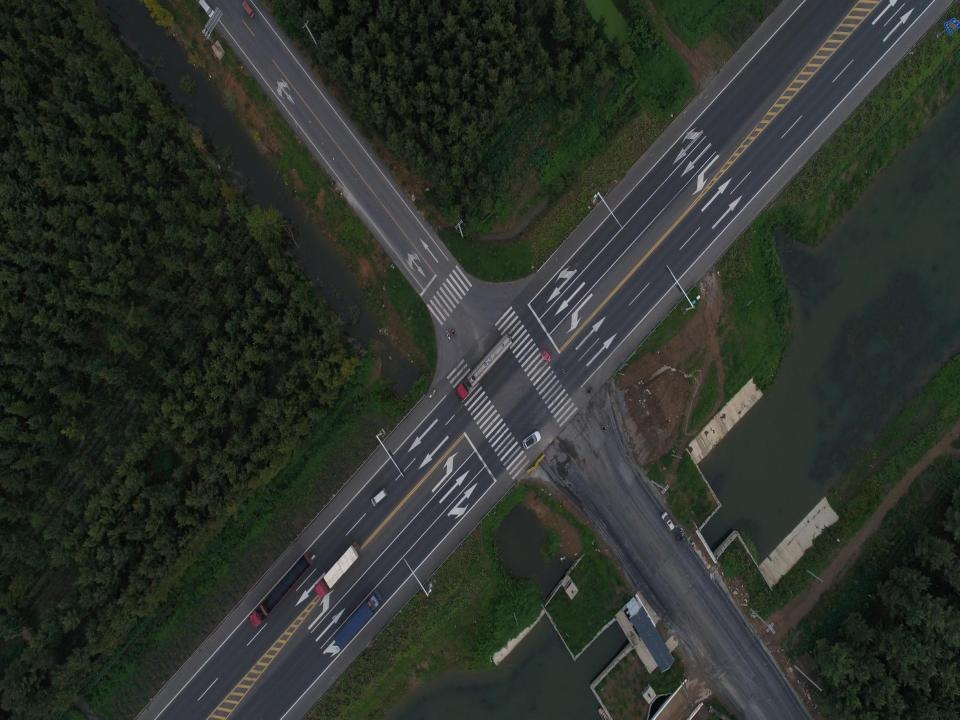car: (522, 431, 541, 450)
truck: (250, 552, 313, 628), (456, 332, 513, 401), (333, 590, 382, 650), (315, 541, 361, 598), (242, 1, 255, 19)
van: (197, 0, 215, 18), (370, 488, 388, 506), (660, 511, 675, 531), (540, 347, 550, 363)
